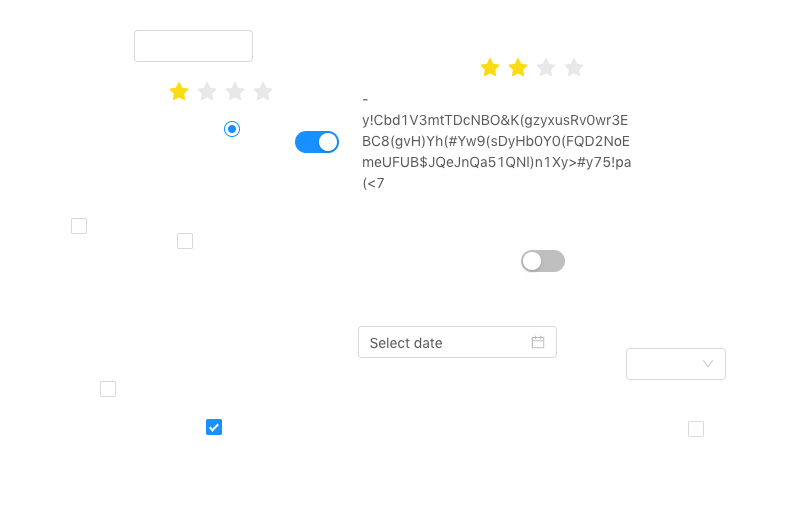Checkbox: (688, 418, 704, 439), (206, 416, 222, 437), (177, 230, 193, 251), (71, 215, 87, 236), (100, 378, 116, 399)
DatePicker: (358, 326, 557, 358)
Input: (134, 30, 253, 62)
Radio: (224, 118, 240, 138)
Rate: (480, 51, 600, 83), (169, 75, 289, 107)
Select: (626, 348, 726, 380)
Switch: (521, 249, 565, 273), (295, 130, 339, 154)
Text: (362, 88, 634, 211)
